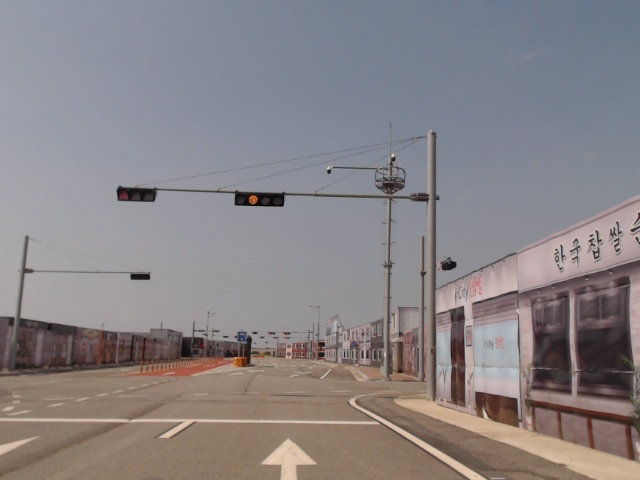orange_4: (234, 190, 286, 208)
